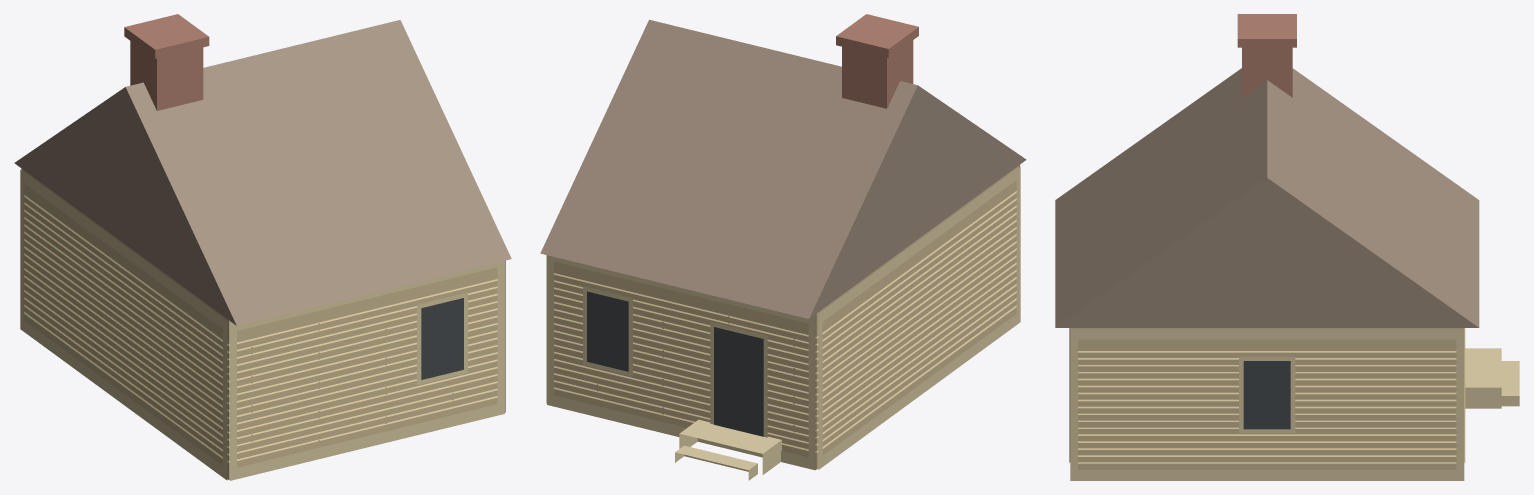
Rendered from recon_1835_south_d3_008__inferred_1835.glb.
3 views of the same model, side by side, from view 1: azimuth 30°, elevation 25°; view 2: azimuth 150°, elevation 25°; view 3: azimuth 270°, elevation 25° (orthographic). The views are drawn at different scales.
Visible parts, largest first — view 1: recon_1835_south_d3_008__inferred_1835; view 2: recon_1835_south_d3_008__inferred_1835; view 3: recon_1835_south_d3_008__inferred_1835.
Boxes of the visible parts, x1,y1,x2,y2 form: recon_1835_south_d3_008__inferred_1835: (14, 14, 511, 480); recon_1835_south_d3_008__inferred_1835: (540, 14, 1026, 480); recon_1835_south_d3_008__inferred_1835: (1055, 14, 1519, 480).
Bounding box in the file's own units: 5.08 × 6.3 × 7.69.
